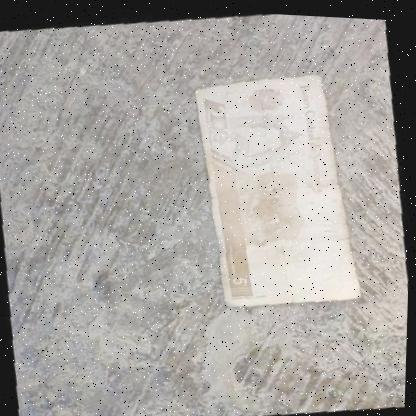five-back-vef: (187, 61, 367, 315)
